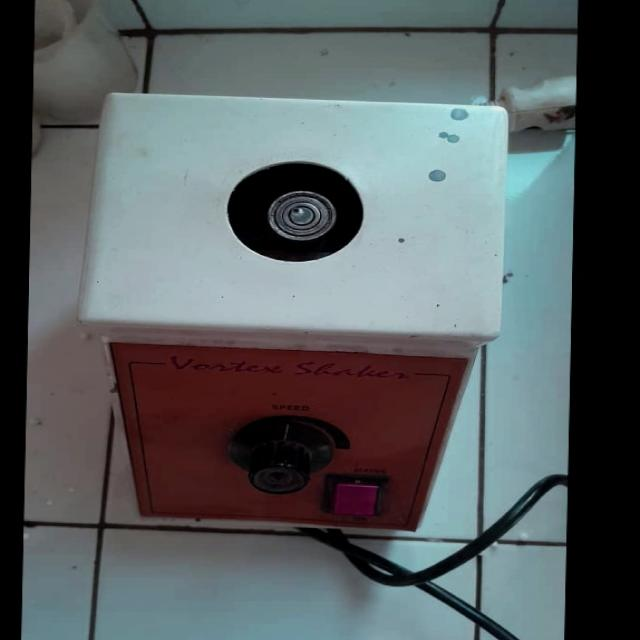Vortex: (87, 87, 505, 537)
